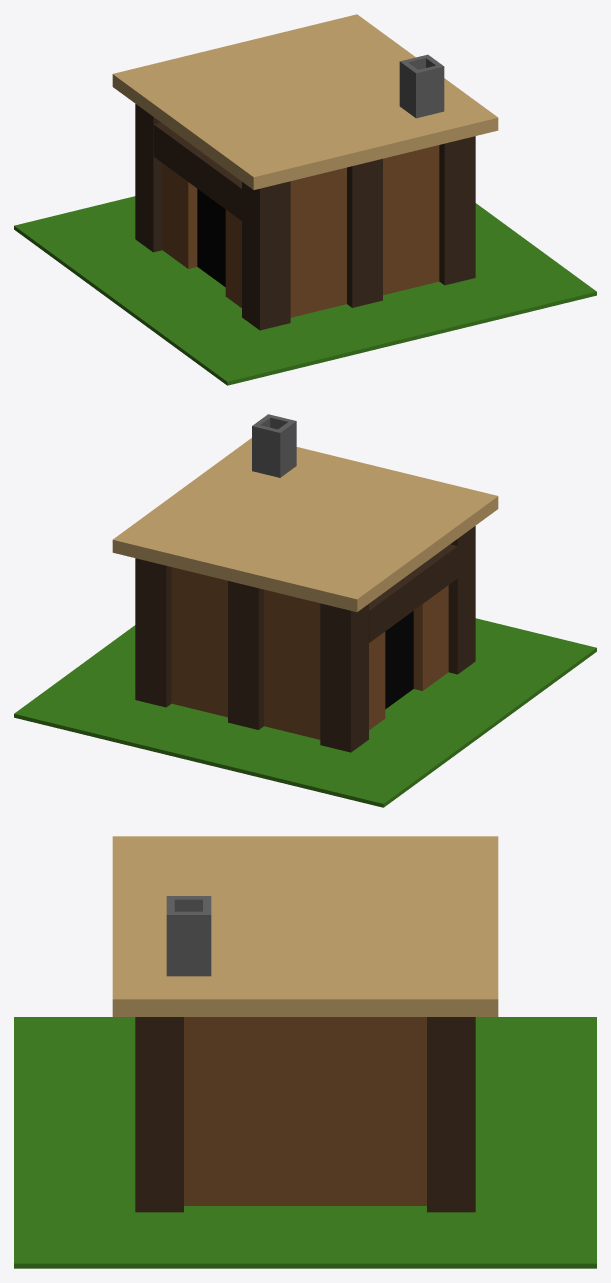
Rendered from lvl4.glb.
The picture shows the model from 3 angles, top to bottom: view 1: azimuth 30°, elevation 25°; view 2: azimuth 150°, elevation 25°; view 3: azimuth 270°, elevation 25°; orthographic projection. The views are drawn at different scales.
Parts seen in each view (by area): view 1: Plane.002, Cube.023, Cube.026, Cube.029, Cube.031, Cube.033, Cube.027, Cube.032, Cube.030, Cube.022, Cube.012; view 2: Cube.023, Plane.002, Cube.025, Cube.030, Cube.034, Cube.028, Cube.027, Cube.032, Cube.029, Cube.022, Cube.012; view 3: Plane.002, Cube.023, Cube.024, Cube.031, Cube.034, Cube.022.
Part boxes in pixels (x1=…): Plane.002: x1=14, y1=196, x2=596, y2=385; Cube.023: x1=112, y1=14, x2=498, y2=189; Cube.026: x1=290, y1=145, x2=439, y2=317; Cube.029: x1=242, y1=181, x2=290, y2=330; Cube.031: x1=439, y1=136, x2=475, y2=285; Cube.033: x1=347, y1=158, x2=382, y2=307; Cube.027: x1=162, y1=163, x2=241, y2=307; Cube.032: x1=153, y1=122, x2=241, y2=220; Cube.030: x1=135, y1=104, x2=162, y2=252; Cube.022: x1=399, y1=54, x2=444, y2=118; Cube.012: x1=197, y1=189, x2=225, y2=286; Cube.023: x1=112, y1=438, x2=498, y2=611; Plane.002: x1=14, y1=618, x2=596, y2=807; Cube.025: x1=171, y1=567, x2=320, y2=739; Cube.030: x1=320, y1=603, x2=368, y2=752; Cube.034: x1=135, y1=558, x2=171, y2=707; Cube.028: x1=228, y1=581, x2=263, y2=729; Cube.027: x1=369, y1=585, x2=448, y2=729; Cube.032: x1=369, y1=544, x2=457, y2=642; Cube.029: x1=448, y1=526, x2=475, y2=674; Cube.022: x1=252, y1=414, x2=296, y2=477; Cube.012: x1=385, y1=611, x2=413, y2=709; Plane.002: x1=14, y1=1017, x2=596, y2=1268; Cube.023: x1=112, y1=836, x2=498, y2=1016; Cube.024: x1=184, y1=1017, x2=426, y2=1205; Cube.031: x1=135, y1=1017, x2=183, y2=1212; Cube.034: x1=427, y1=1017, x2=475, y2=1212; Cube.022: x1=166, y1=896, x2=211, y2=976.
Size of the model in its own units: 6 by 3.29 by 6.
